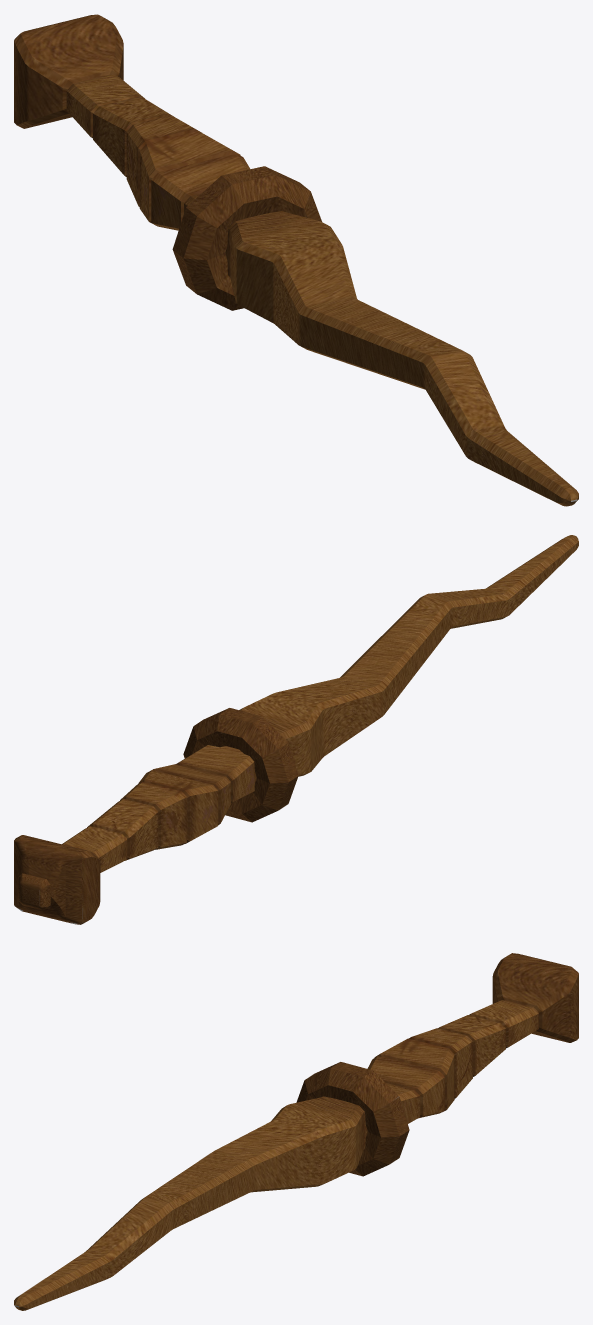
File: wand.fbx
The picture shows the model from 3 angles, top to bottom: view 1: azimuth 30°, elevation 25°; view 2: azimuth 150°, elevation 25°; view 3: azimuth 330°, elevation 25°; orthographic projection. The views are drawn at different scales.
Visible parts, largest first — view 1: Wand1; view 2: Wand1; view 3: Wand1.
Boxes of the visible parts, left/top/right/bottom form: Wand1: left=14, top=14, right=578, bottom=506; Wand1: left=14, top=535, right=578, bottom=924; Wand1: left=14, top=953, right=578, bottom=1310.
Bounding box in the file's own units: 0.943 × 0.7858 × 6.96.
